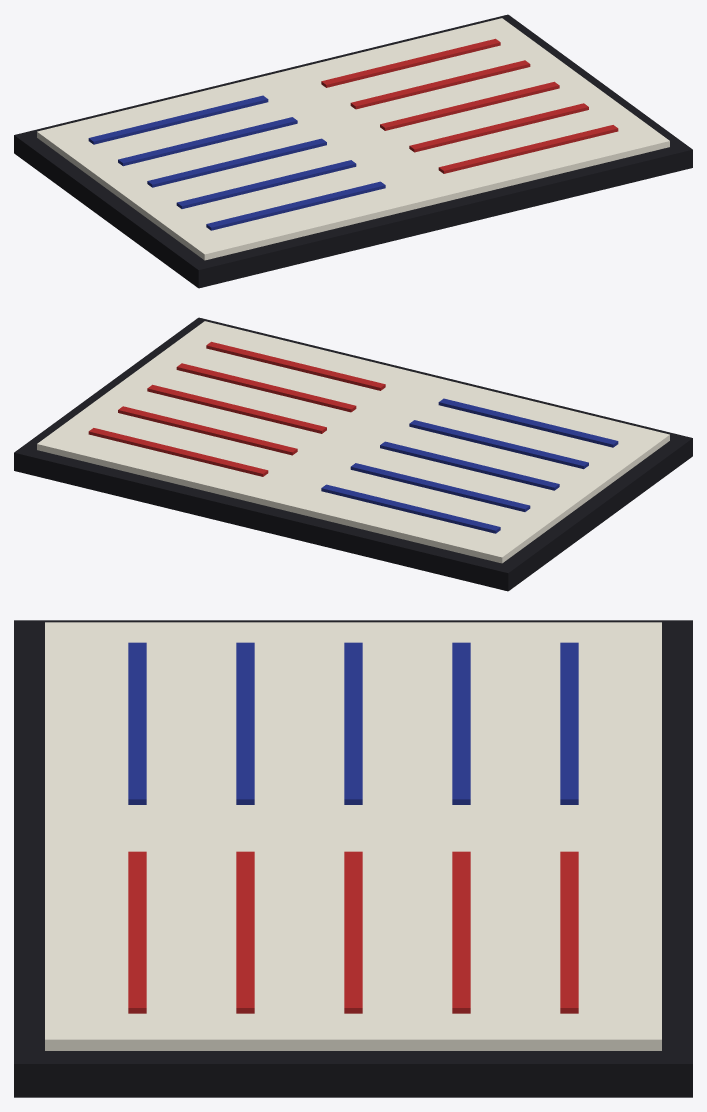
The model's file is carwash_ledger.glb.
3 views of the same model, one above another, from view 1: azimuth 30°, elevation 25°; view 2: azimuth 150°, elevation 25°; view 3: azimuth 270°, elevation 25° (orthographic). The views are drawn at different scales.
Parts seen in each view (by area): view 1: page_ledger_page, cover_ledger_cover, ink_ledger_red (×5), ink_ledger_blue (×5); view 2: page_ledger_page, cover_ledger_cover, ink_ledger_red (×5), ink_ledger_blue (×5); view 3: page_ledger_page, cover_ledger_cover, ink_ledger_blue (×5), ink_ledger_red (×5).
Boxes of the visible parts, x1,y1,x2,y2 form: page_ledger_page: [37, 18, 669, 260]; cover_ledger_cover: [14, 14, 692, 288]; ink_ledger_red (×5): [321, 38, 618, 173]; ink_ledger_blue (×5): [88, 95, 385, 230]; page_ledger_page: [37, 321, 669, 563]; cover_ledger_cover: [14, 317, 692, 591]; ink_ledger_red (×5): [88, 341, 385, 476]; ink_ledger_blue (×5): [321, 398, 618, 533]; page_ledger_page: [45, 622, 661, 1050]; cover_ledger_cover: [14, 620, 692, 1097]; ink_ledger_blue (×5): [128, 642, 578, 804]; ink_ledger_red (×5): [128, 851, 578, 1013].
Size of the model in its own units: 0.34 by 0.018 by 0.22.
